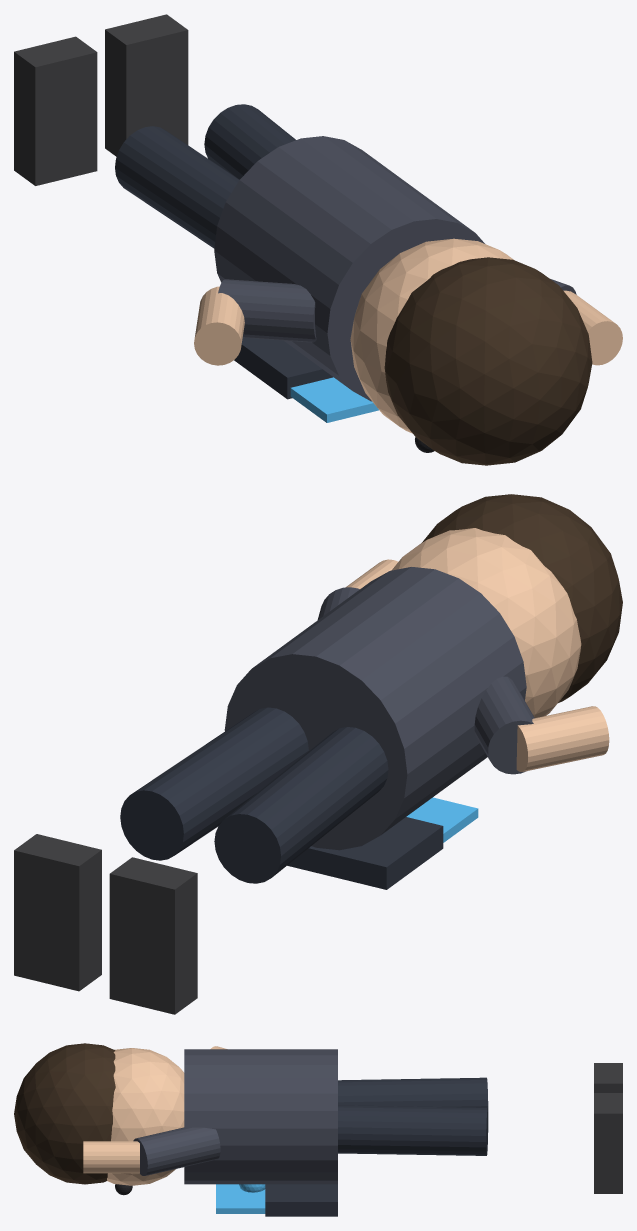
File: AI_Buddy.glb
3 renders of one model, top to bottom at view 1: azimuth 30°, elevation 25°; view 2: azimuth 150°, elevation 25°; view 3: azimuth 270°, elevation 25°, orthographic. The views are drawn at different scales.
Visible parts, largest first — view 1: hair, torso, shoe.L, shoe.R, leg.L, head, arm.L, leg.R, laptop, forearm.L, screen, forearm.R; view 2: torso, leg.L, leg.R, head, shoe.L, shoe.R, hair, laptop, forearm.L, arm.L, screen; view 3: torso, hair, leg.R, head, leg.L, arm.R, shoe.R, laptop, forearm.R, screen, shoe.L.
Part boxes in pixels (<box>): hair: <box>384,257,592,465</box>; torso: <box>214,136,484,401</box>; shoe.L: <box>14,36,97,185</box>; shoe.R: <box>105,14,188,156</box>; leg.L: <box>115,126,239,248</box>; head: <box>350,238,514,433</box>; arm.L: <box>218,279,316,342</box>; leg.R: <box>204,104,295,179</box>; laptop: <box>234,337,333,399</box>; forearm.L: <box>194,286,244,365</box>; screen: <box>290,377,378,422</box>; forearm.R: <box>563,290,622,365</box>; torso: <box>224,567,526,850</box>; leg.L: <box>214,727,388,883</box>; leg.R: <box>120,707,308,860</box>; head: <box>391,528,581,717</box>; shoe.L: <box>109,857,197,1014</box>; shoe.R: <box>14,834,101,991</box>; hair: <box>422,494,622,702</box>; laptop: <box>287,817,443,889</box>; forearm.L: <box>516,706,609,771</box>; arm.L: <box>474,676,534,774</box>; screen: <box>406,797,478,842</box>; torso: <box>184,1049,337,1184</box>; hair: <box>14,1043,115,1184</box>; leg.R: <box>338,1105,488,1155</box>; head: <box>107,1048,184,1185</box>; leg.L: <box>338,1077,488,1112</box>; arm.R: <box>133,1127,220,1175</box>; shoe.R: <box>594,1093,622,1193</box>; laptop: <box>265,1184,337,1216</box>; forearm.R: <box>83,1141,139,1173</box>; screen: <box>216,1184,265,1213</box>; shoe.L: <box>594,1063,622,1092</box>.
Bounding box in the file's own units: 1.59 × 0.99 × 3.77.
